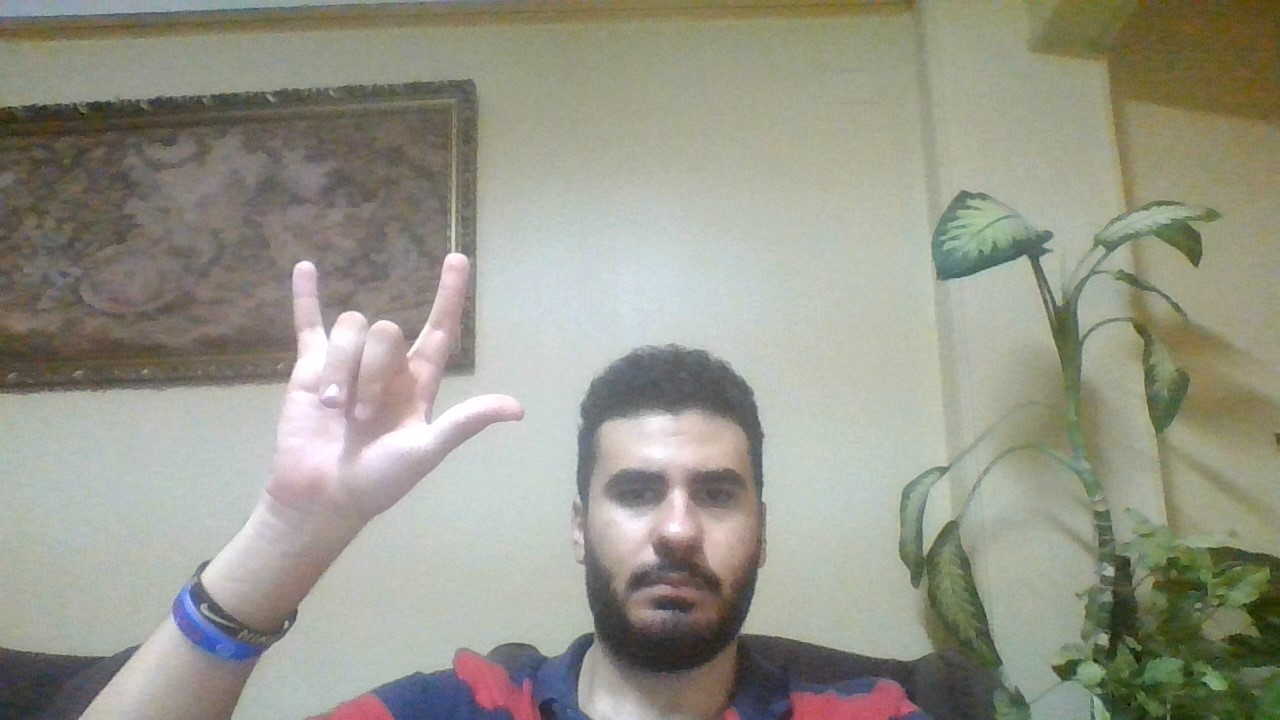love: (266, 245, 534, 544)
